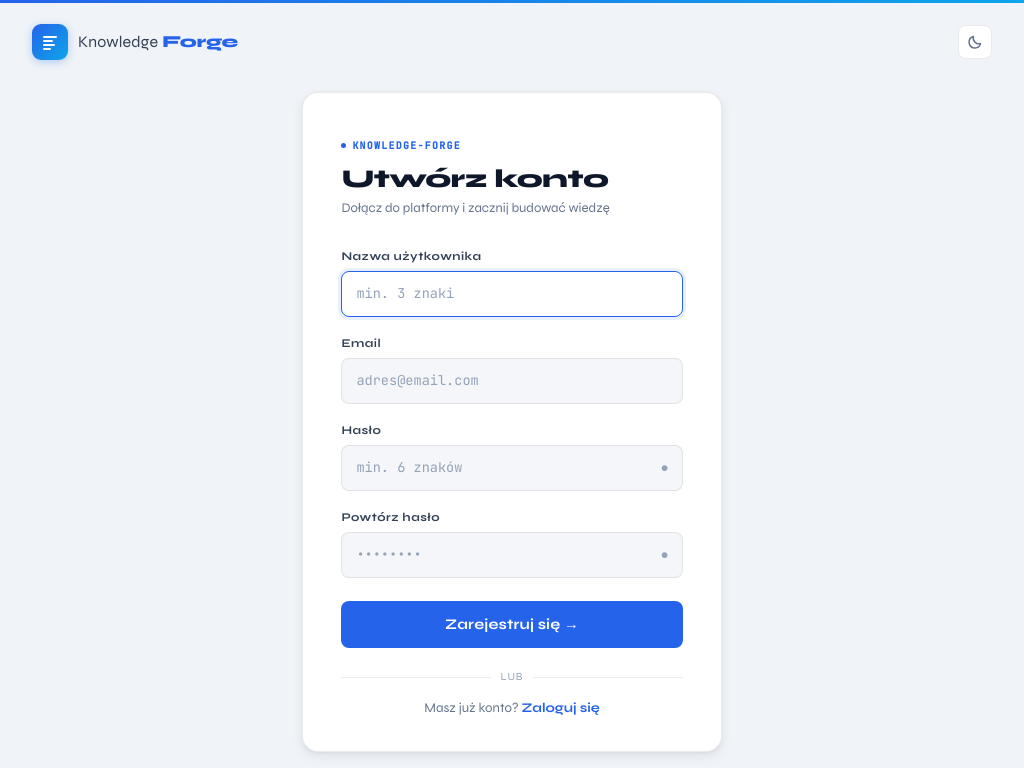
Scenario: RegisterPage › reports registration errors
Type "ala" into the field labelled "Nazwa użytkownika" at (512, 294), box [341,272,683,317]
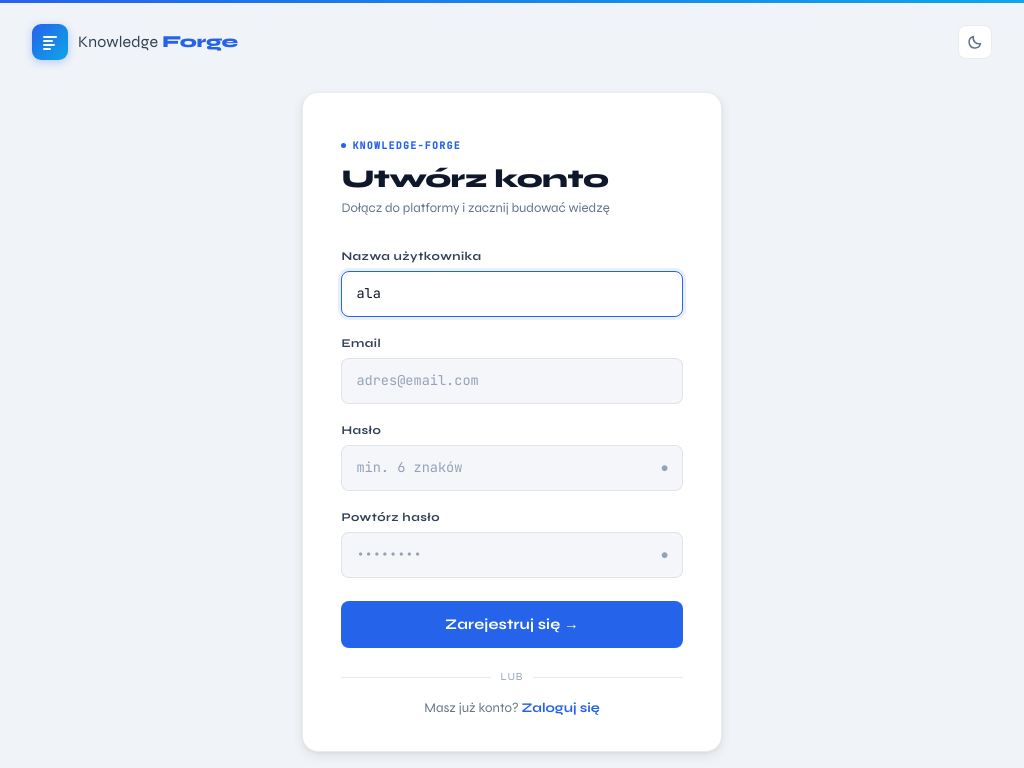
Type "ala@x.pl" into the field labelled "Email" at (512, 381), box [341,358,683,404]
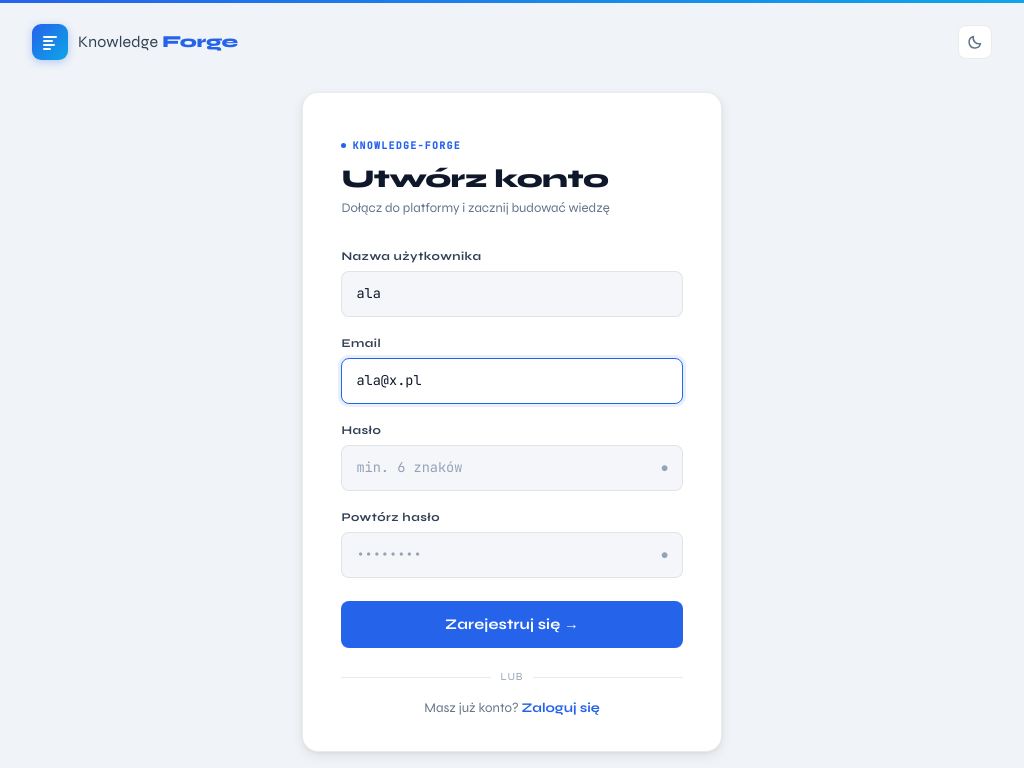
Type "abcdef" into the password field labelled "Hasło" at (512, 468), box [341,446,683,491]
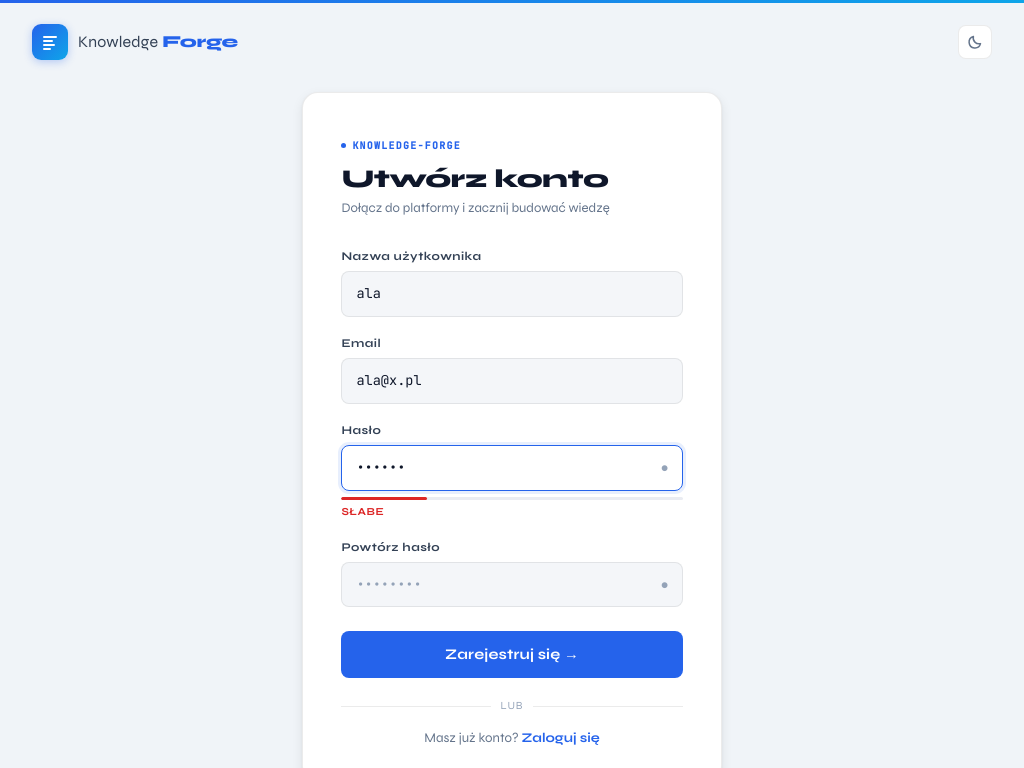
Type "abcdef" into the password field labelled "Powtórz hasło" at (512, 585), box [341,562,683,607]
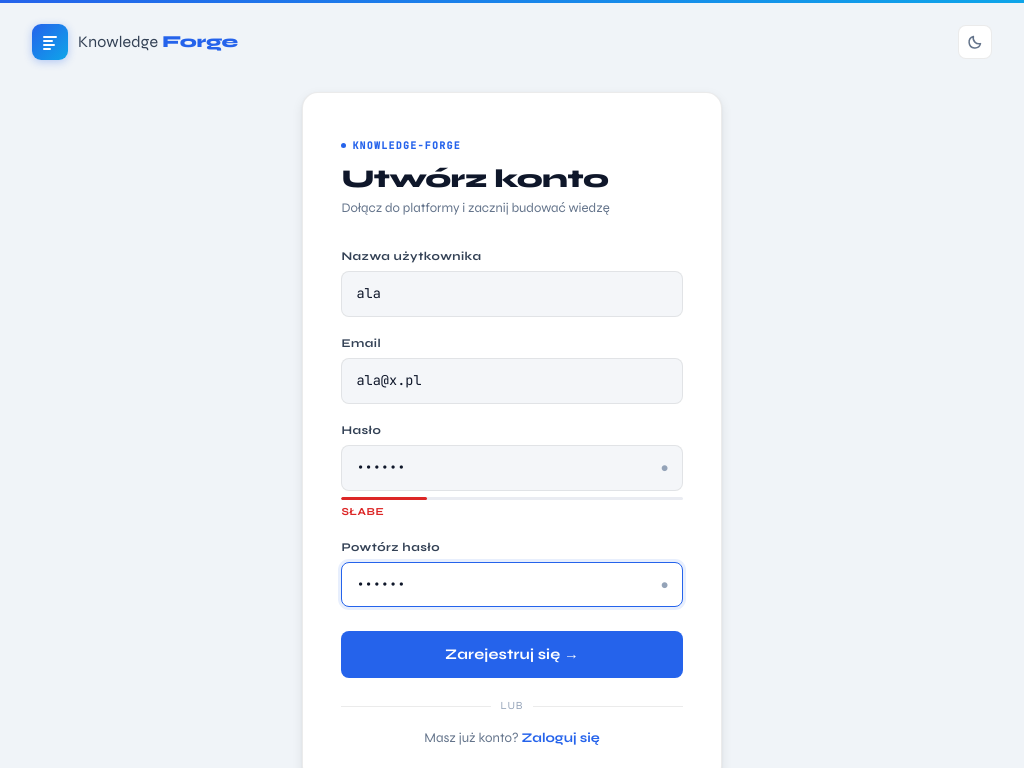
Click the button "Zarejestruj się →" at (512, 654), box [341,631,683,678]
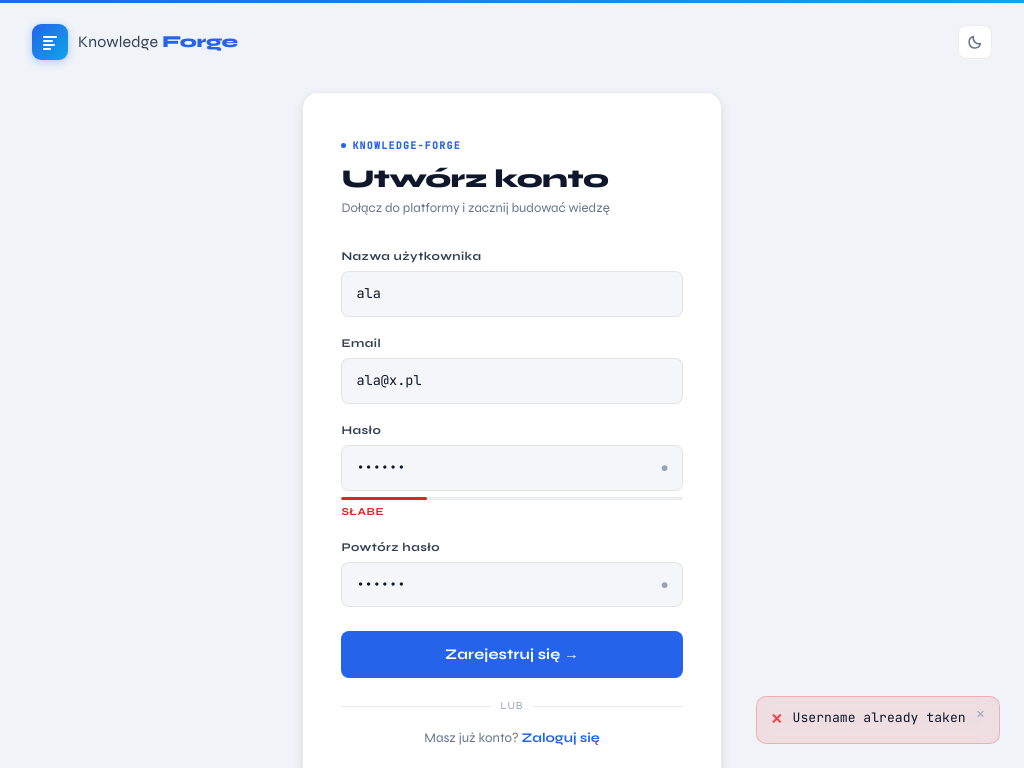
Expected: the text "Username already taken" is shown, [793,709,966,727]
